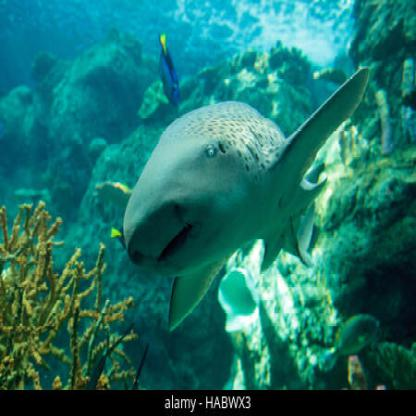zebra_shark: (97, 40, 386, 336)
